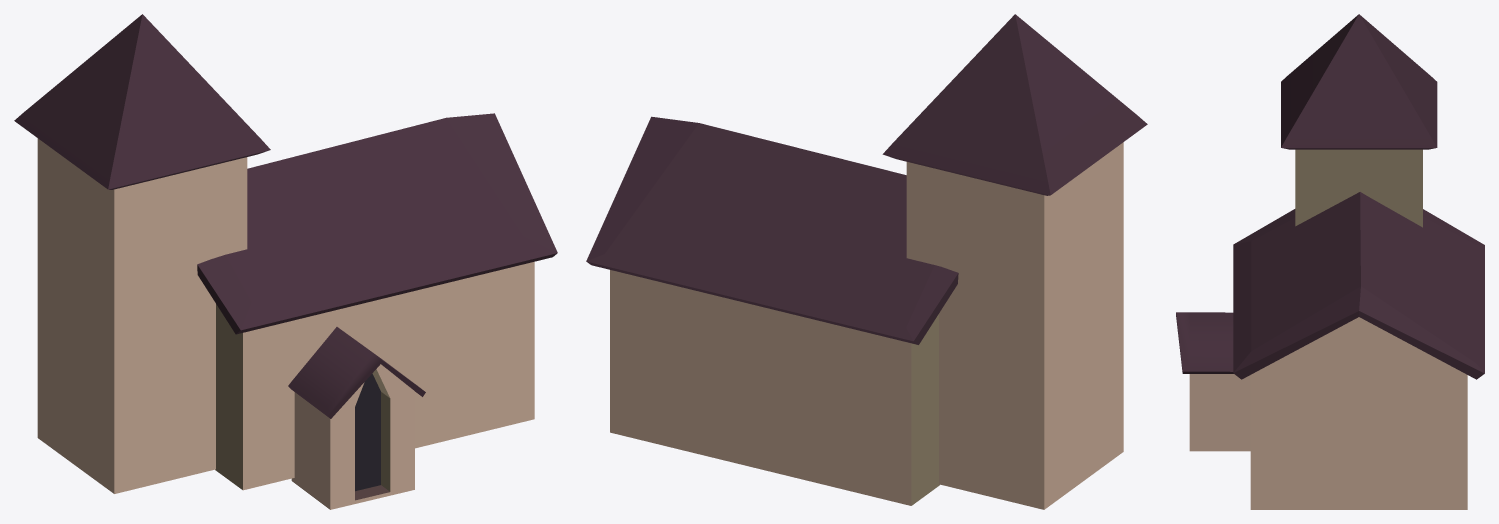
Rendered from Church_001.fbx.
3 renders of one model, left to right at view 1: azimuth 30°, elevation 25°; view 2: azimuth 150°, elevation 25°; view 3: azimuth 270°, elevation 25°, orthographic. The views are drawn at different scales.
Parts seen in each view (by area): view 1: Church_001; view 2: Church_001; view 3: Church_001.
Part boxes in pixels (x1,y1,x2,y2): Church_001: (14, 14, 557, 509); Church_001: (586, 14, 1147, 509); Church_001: (1176, 14, 1484, 509).
Bounding box in the file's own units: 522 × 509 × 388.
